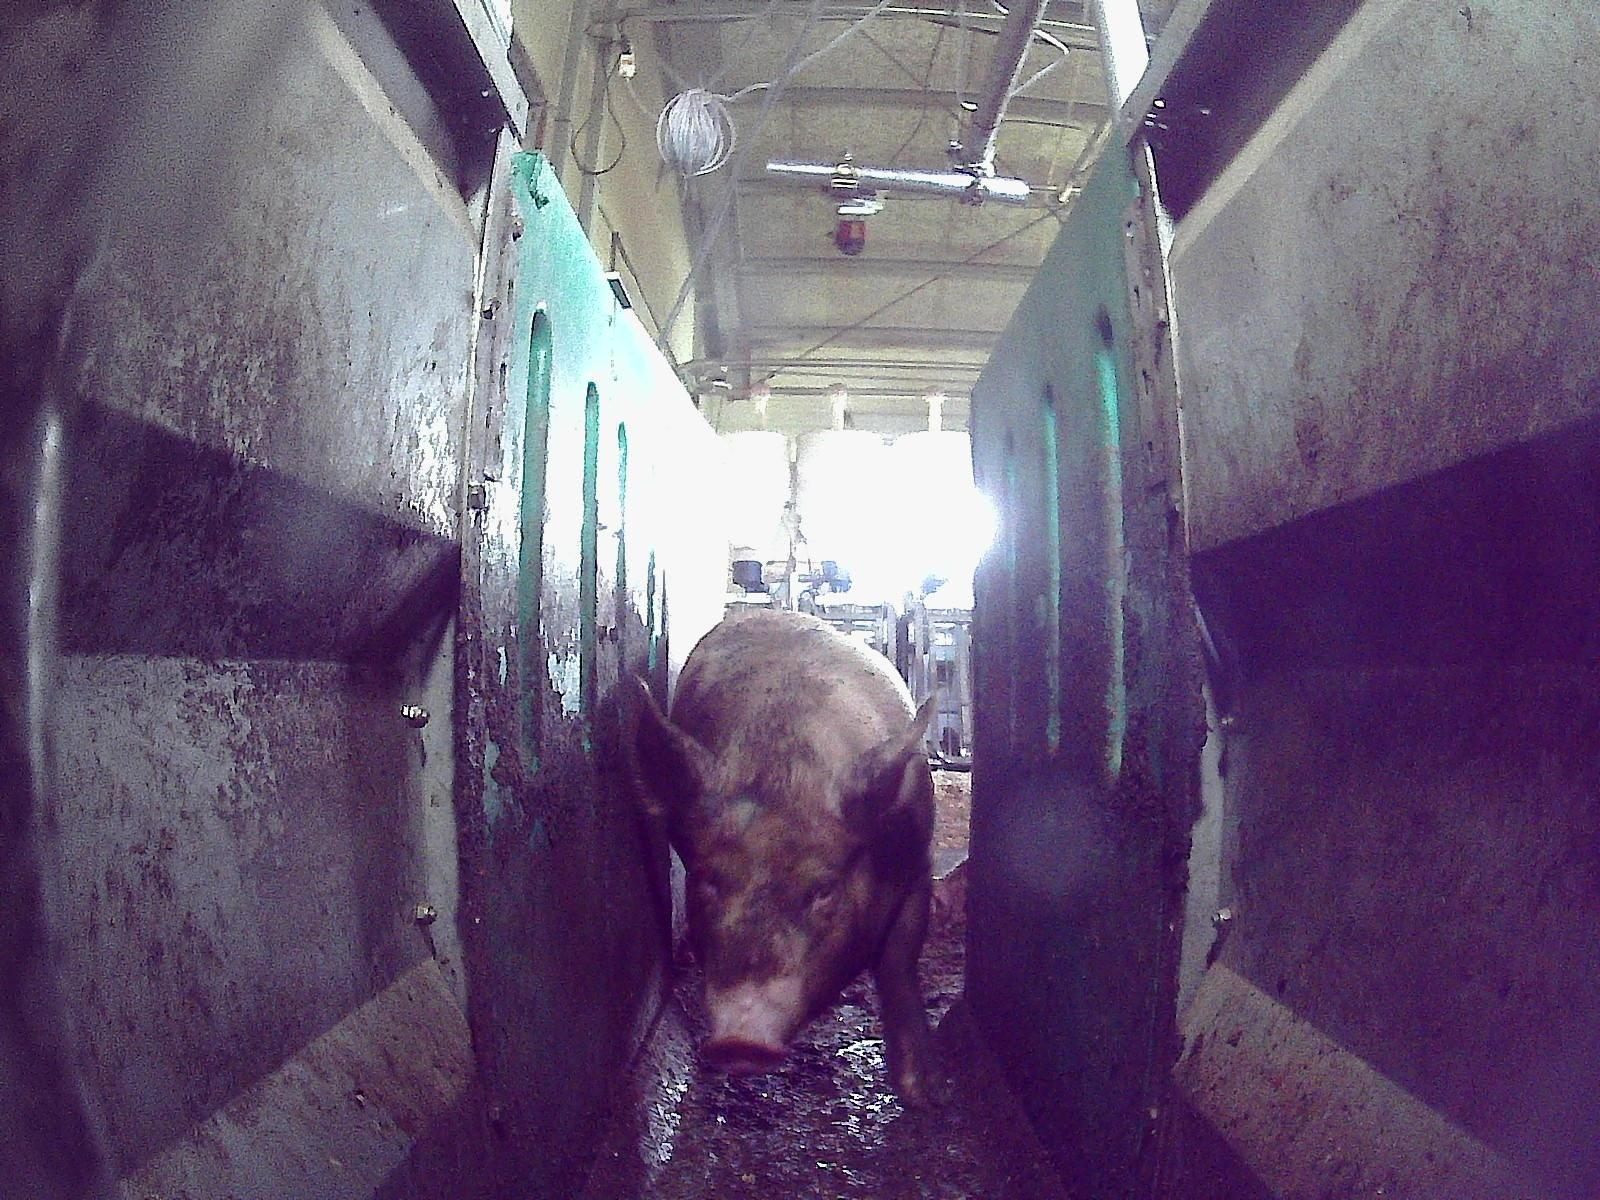Face: (669, 781, 876, 1069)
